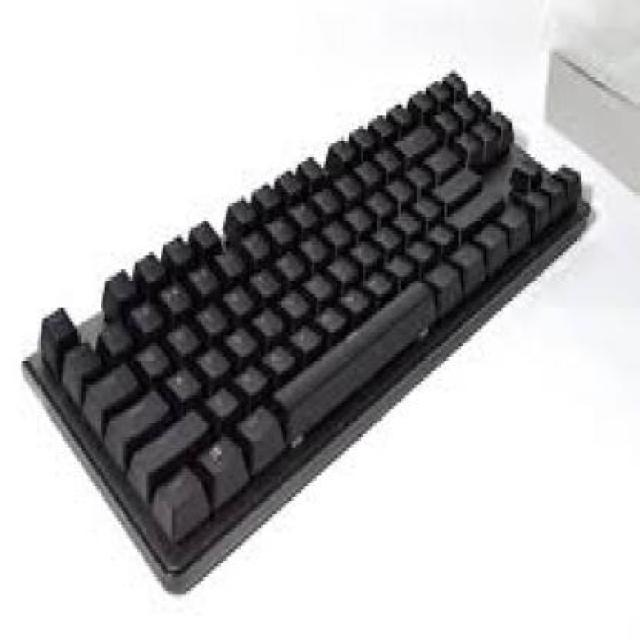keyboard: (13, 68, 607, 606)
